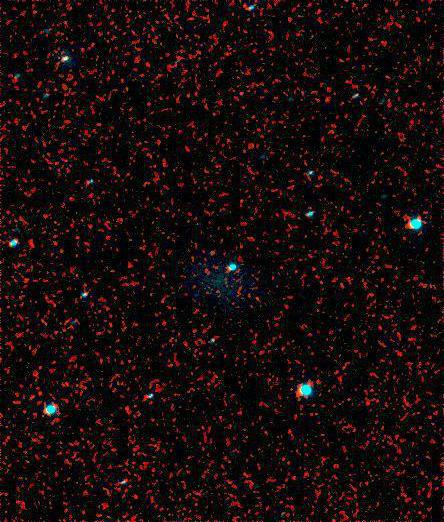star: (240, 284, 270, 314)
